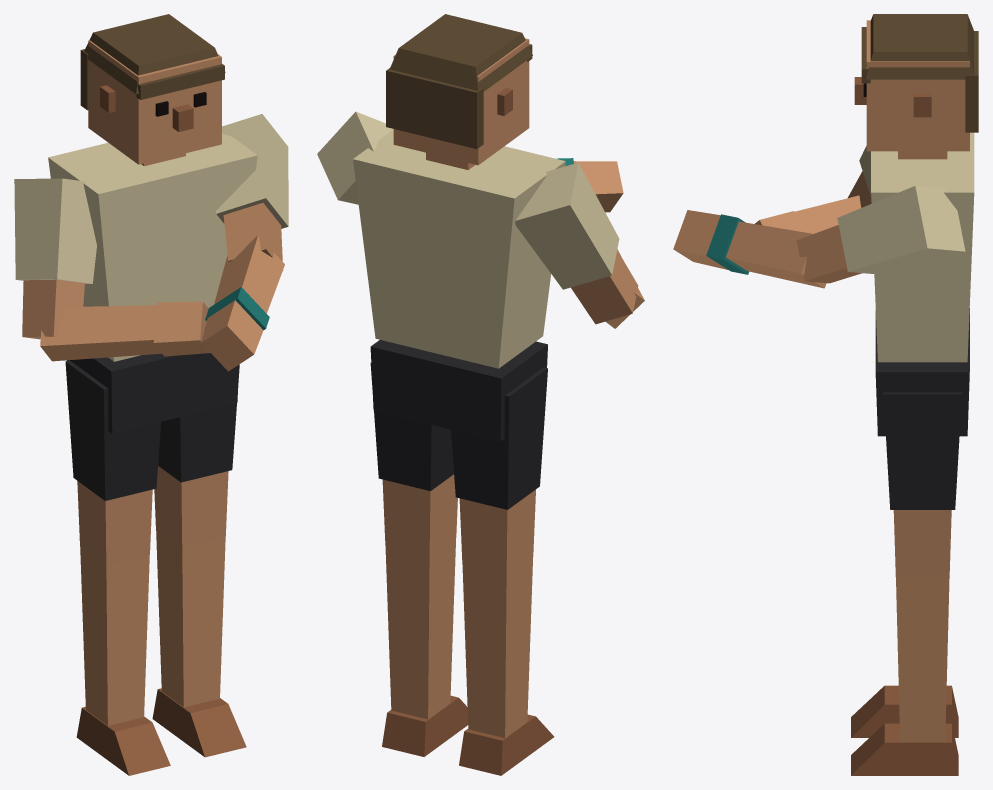
The model's file is grunt_mannequin.glb.
3 views of the same model, side by side, from view 1: azimuth 30°, elevation 25°; view 2: azimuth 150°, elevation 25°; view 3: azimuth 270°, elevation 25° (orthographic). The views are drawn at different scales.
Visible parts, largest first — view 1: torso, leg_r_lower, leg_l_lower, leg_r, arm_r, head, leg_l, arm_r_lower, hair, arm_l, arm_l_lower; view 2: torso, leg_r_lower, leg_l_lower, leg_r, hair, arm_r, leg_l, head, arm_l, arm_l_lower; view 3: torso, leg_l_lower, leg_l, arm_l, head, hair, arm_l_lower, leg_r_lower, arm_r_lower, arm_r.
Part boxes in pixels (x1,y1,x2,y2): torso: (48,133,257,433); leg_r_lower: (76,547,170,775); leg_l_lower: (152,528,246,757); leg_r: (65,360,160,565); arm_r: (14,178,96,339); head: (88,40,221,166); leg_l: (154,364,239,546); arm_r_lower: (40,301,210,361); hair: (80,14,225,110); arm_l: (216,114,288,270); arm_l_lower: (201,236,284,371); torso: (353,129,565,441); leg_r_lower: (459,556,554,775); leg_l_lower: (382,537,467,756); leg_r: (451,367,547,575); hair: (386,14,532,148); arm_r: (515,162,638,324); leg_l: (370,363,457,556); head: (393,38,529,169); arm_l: (317,111,393,204); arm_l_lower: (556,158,623,212); torso: (871,132,974,436); leg_l_lower: (851,577,958,775); leg_l: (883,392,961,577); arm_l: (796,185,965,283); head: (854,20,969,159); hair: (861,14,978,132); arm_l_lower: (673,210,826,288); leg_r_lower: (851,685,958,737); arm_r_lower: (755,195,861,233); arm_r: (848,146,871,207).
Bounding box in the file's own units: 0.7612 × 1.75 × 0.6812.
